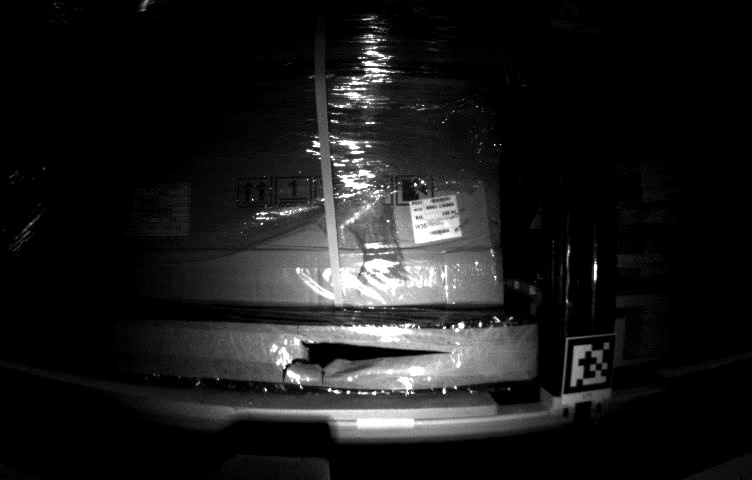True Barcode: (408, 193, 463, 242)
